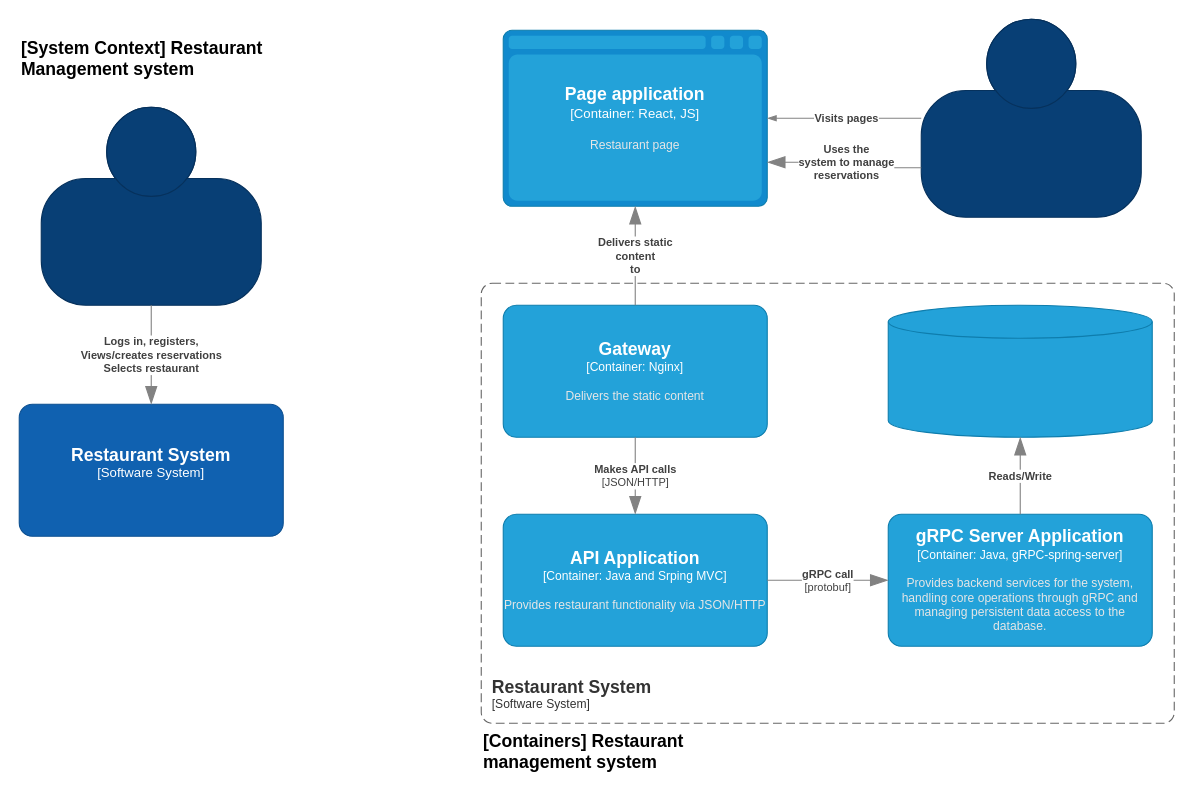
The diagram is 1194 pixels wide and 798 high, and some of its shapes have lost their labels. Here are the shapes that lost their labels. From the top down, the box of each, then its label:
(920, 18, 1141, 217): User [Restaurant User]
(40, 106, 261, 305): Person [Person]
(887, 304, 1152, 437): Database [Container: Postgresql 16]
